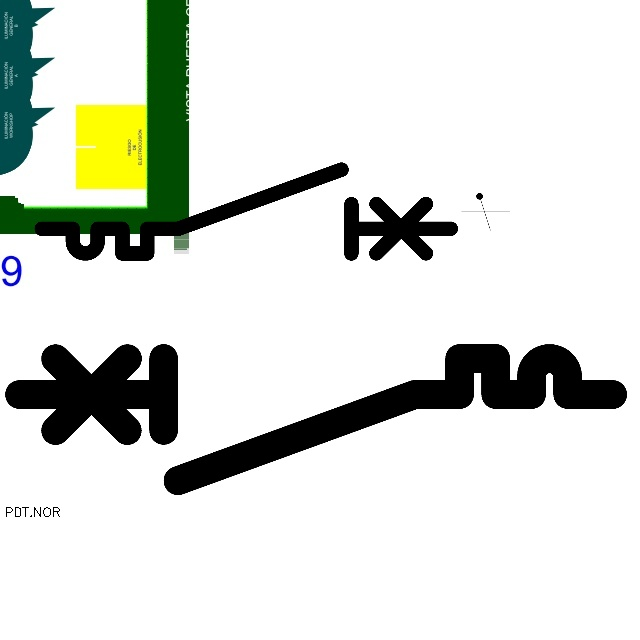interruptor_termomagnetico: (4, 343, 628, 496), (31, 159, 461, 264)
